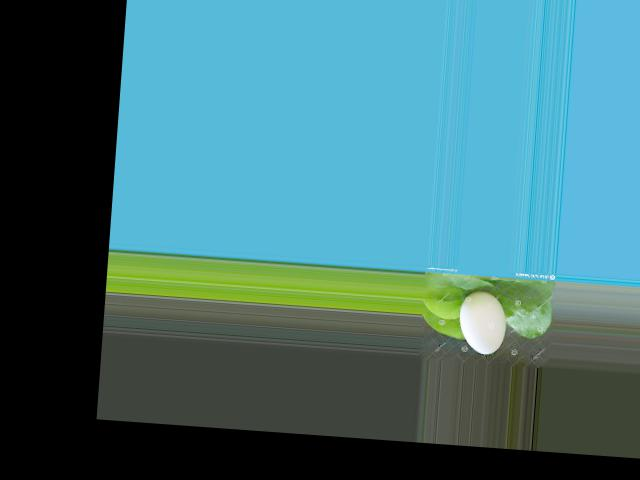egg: (456, 289, 508, 355)
